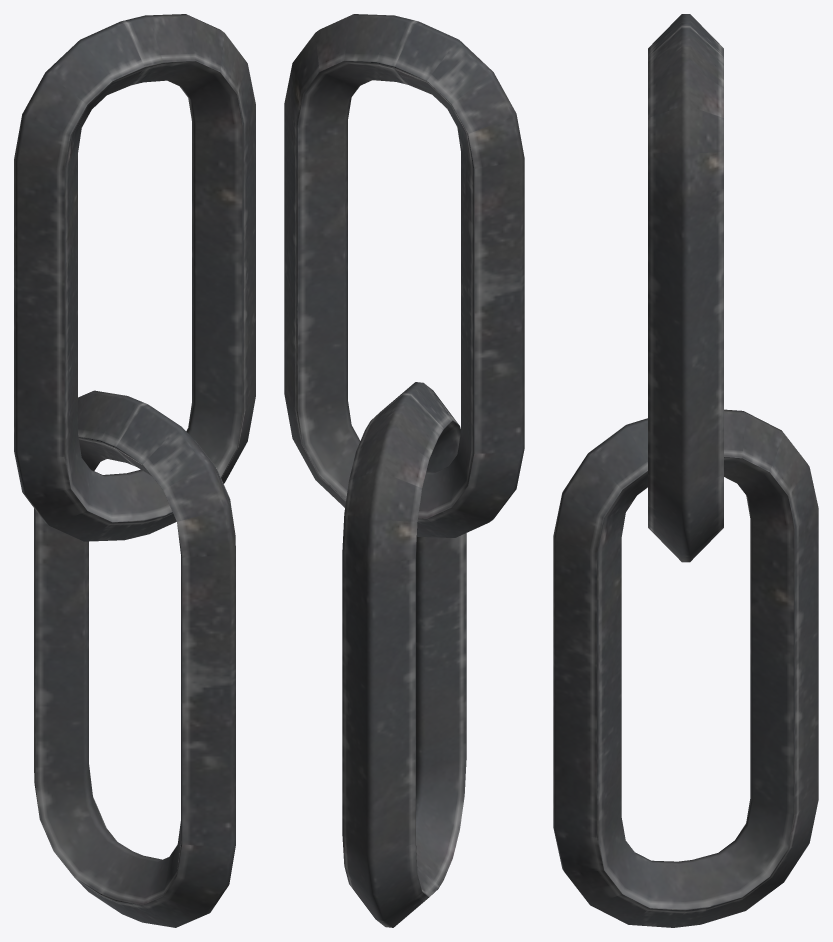
Rendered from SM_Chain2x.fbx.
3 views of the same model, side by side, from view 1: azimuth 30°, elevation 25°; view 2: azimuth 150°, elevation 25°; view 3: azimuth 270°, elevation 25° (orthographic).
Parts seen in each view (by area): view 1: SM_Chain2x_LOD0; view 2: SM_Chain2x_LOD0; view 3: SM_Chain2x_LOD0.
Boxes of the visible parts, left/top/right/bottom form: SM_Chain2x_LOD0: left=14, top=14, right=255, bottom=927; SM_Chain2x_LOD0: left=284, top=14, right=524, bottom=927; SM_Chain2x_LOD0: left=553, top=14, right=818, bottom=927.
Bounding box in the file's own units: 11.89 × 11.55 × 42.9.
Materials: 1 (1 with a texture image).
